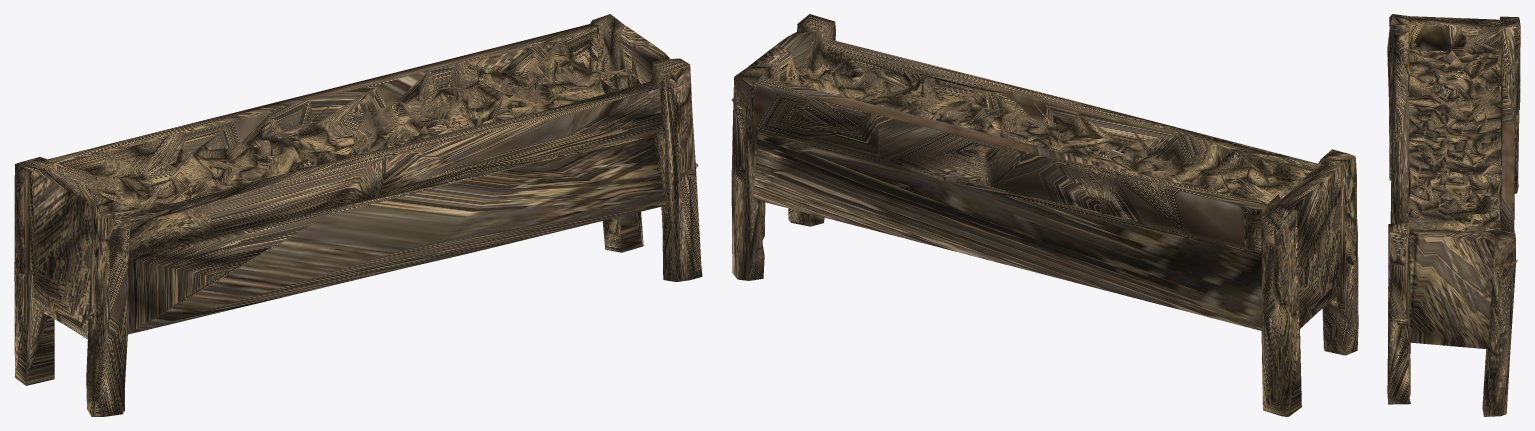
The model's file is straight-feeding-trough.glb.
3 views of the same model, side by side, from view 1: azimuth 30°, elevation 25°; view 2: azimuth 150°, elevation 25°; view 3: azimuth 270°, elevation 25° (orthographic). The views are drawn at different scales.
Parts seen in each view (by area): view 1: geometry_0; view 2: geometry_0; view 3: geometry_0.
Boxes of the visible parts, bbox=[...] form: geometry_0: bbox=[14, 14, 702, 416]; geometry_0: bbox=[731, 14, 1358, 416]; geometry_0: bbox=[1387, 14, 1520, 416].
Size of the model in its own units: 1.79 by 0.6466 by 0.4327.
1 material, 1 textured.
